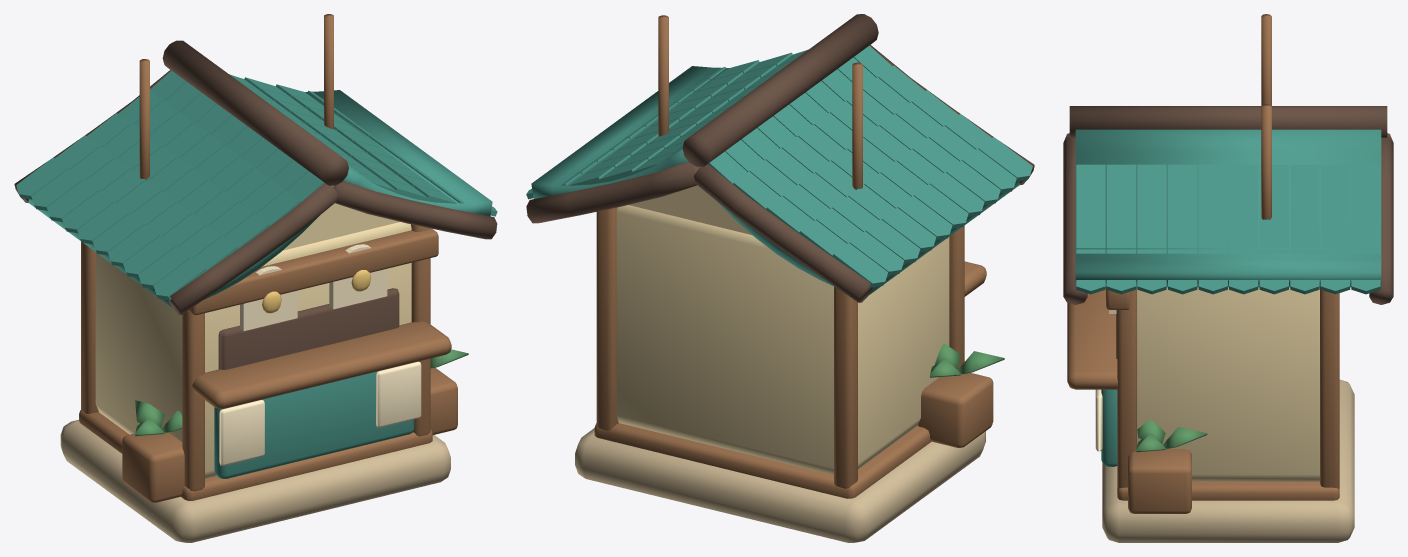
File: booth_collector.glb
3 renders of one model, left to right at view 1: azimuth 30°, elevation 25°; view 2: azimuth 150°, elevation 25°; view 3: azimuth 270°, elevation 25°, orthographic. The views are drawn at different scales.
Visible parts, largest first — view 1: booth_collector_crafted_mesh; view 2: booth_collector_crafted_mesh; view 3: booth_collector_crafted_mesh.
Boxes of the visible parts, box(x1,y1,x2,y2) form: booth_collector_crafted_mesh: box(14, 14, 497, 542); booth_collector_crafted_mesh: box(526, 14, 1034, 542); booth_collector_crafted_mesh: box(1063, 14, 1393, 542).
Size of the model in its own units: 2.57 by 3.05 by 2.17.
